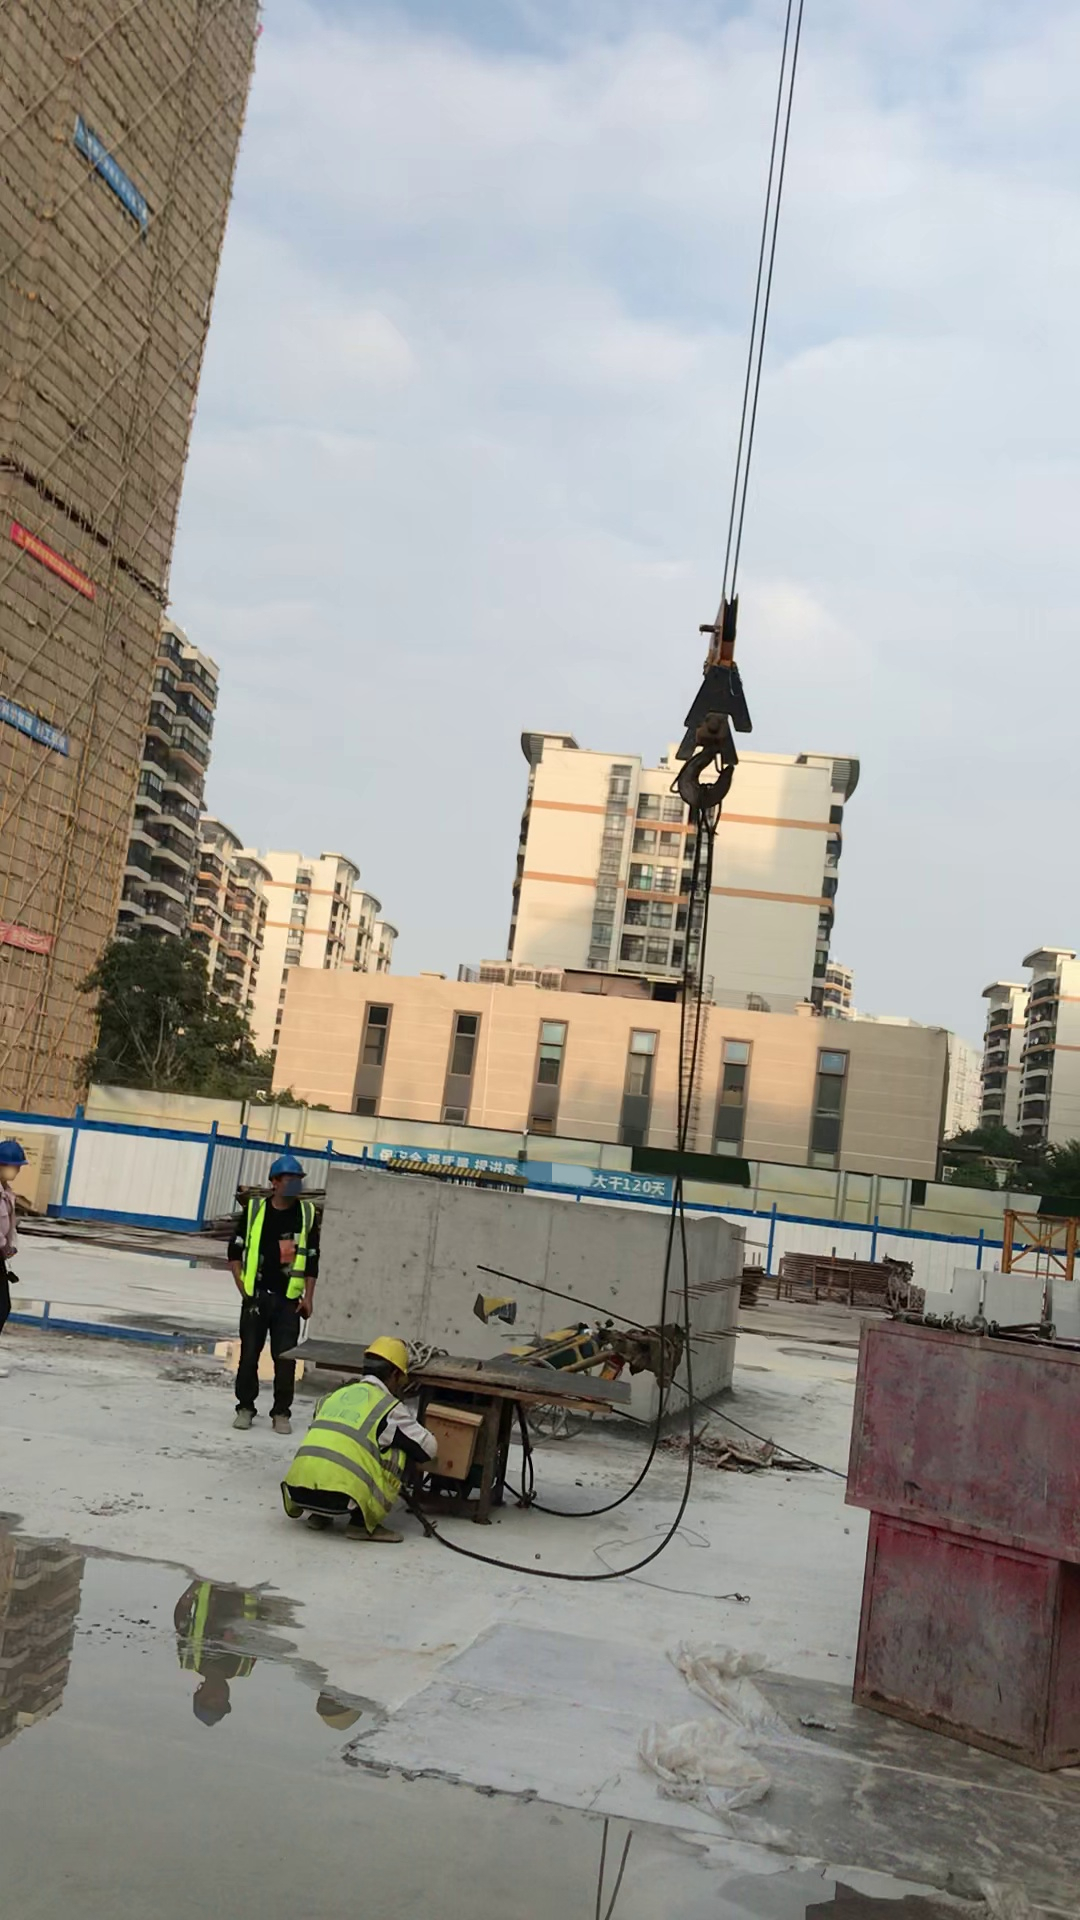brick: (920, 1263, 990, 1325), (981, 1268, 1046, 1334), (582, 1505, 613, 1565)
cutter: (265, 1323, 633, 1539)
helmet: (360, 1338, 411, 1371), (266, 1152, 304, 1181), (1, 1138, 32, 1167)
hook: (665, 570, 761, 810)
person: (272, 1333, 439, 1544), (226, 1152, 320, 1437), (1, 1138, 33, 1360)
slogan: (67, 138, 148, 227), (373, 1144, 552, 1183), (14, 526, 96, 599), (1, 703, 71, 760), (1, 912, 48, 953)
vest: (287, 1373, 410, 1536), (242, 1194, 307, 1301)
